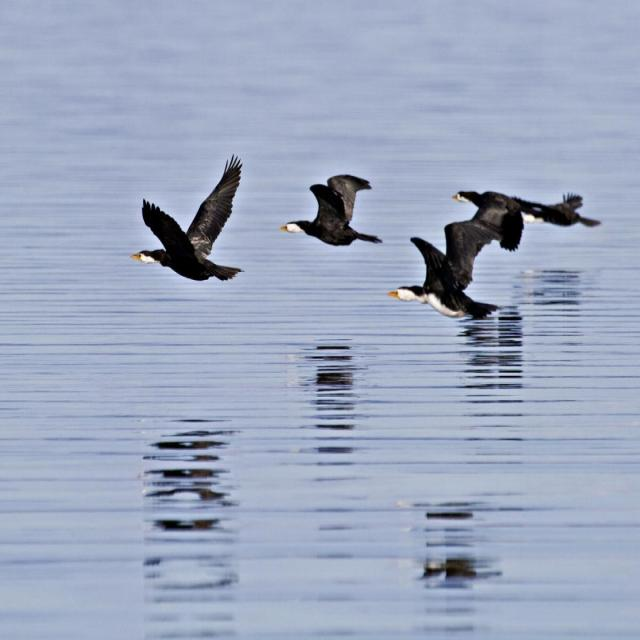bird: (389, 212, 528, 318), (134, 153, 245, 284), (448, 189, 606, 250), (282, 174, 383, 250)
